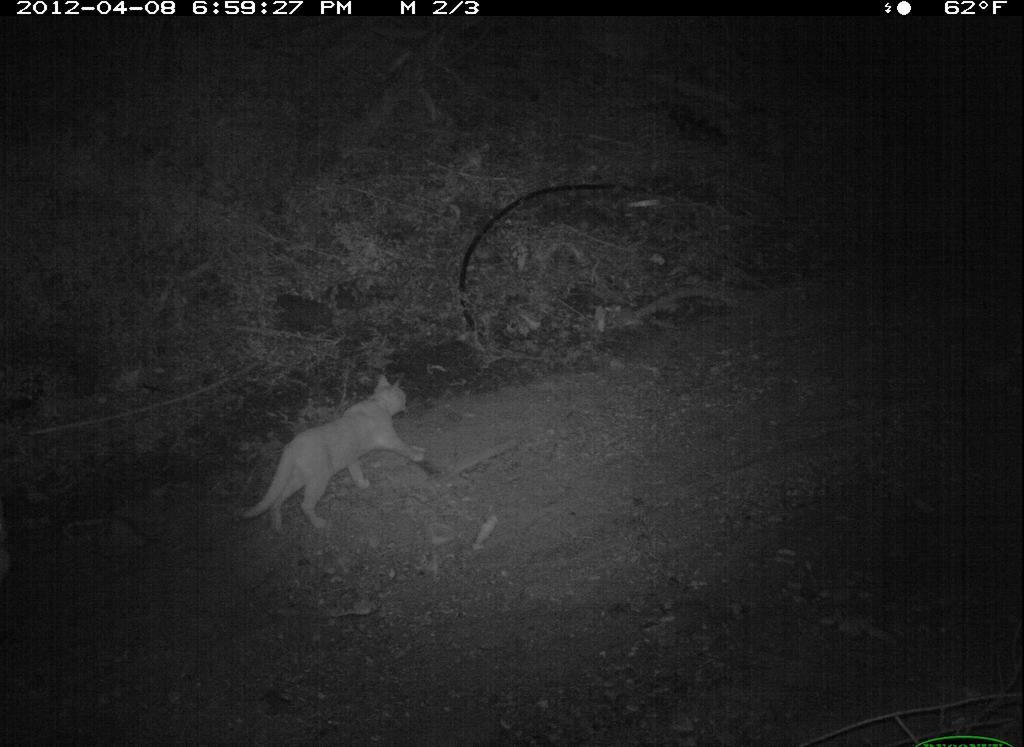cat: (239, 370, 434, 538)
